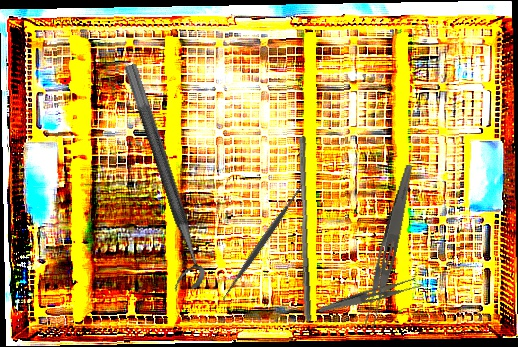Dressing Forceps: (359, 162, 417, 331), (317, 270, 426, 325)
Fixation Ring: (104, 62, 210, 295)
Pusher: (292, 136, 319, 322)
Spatula Surgical: (215, 177, 311, 305)
